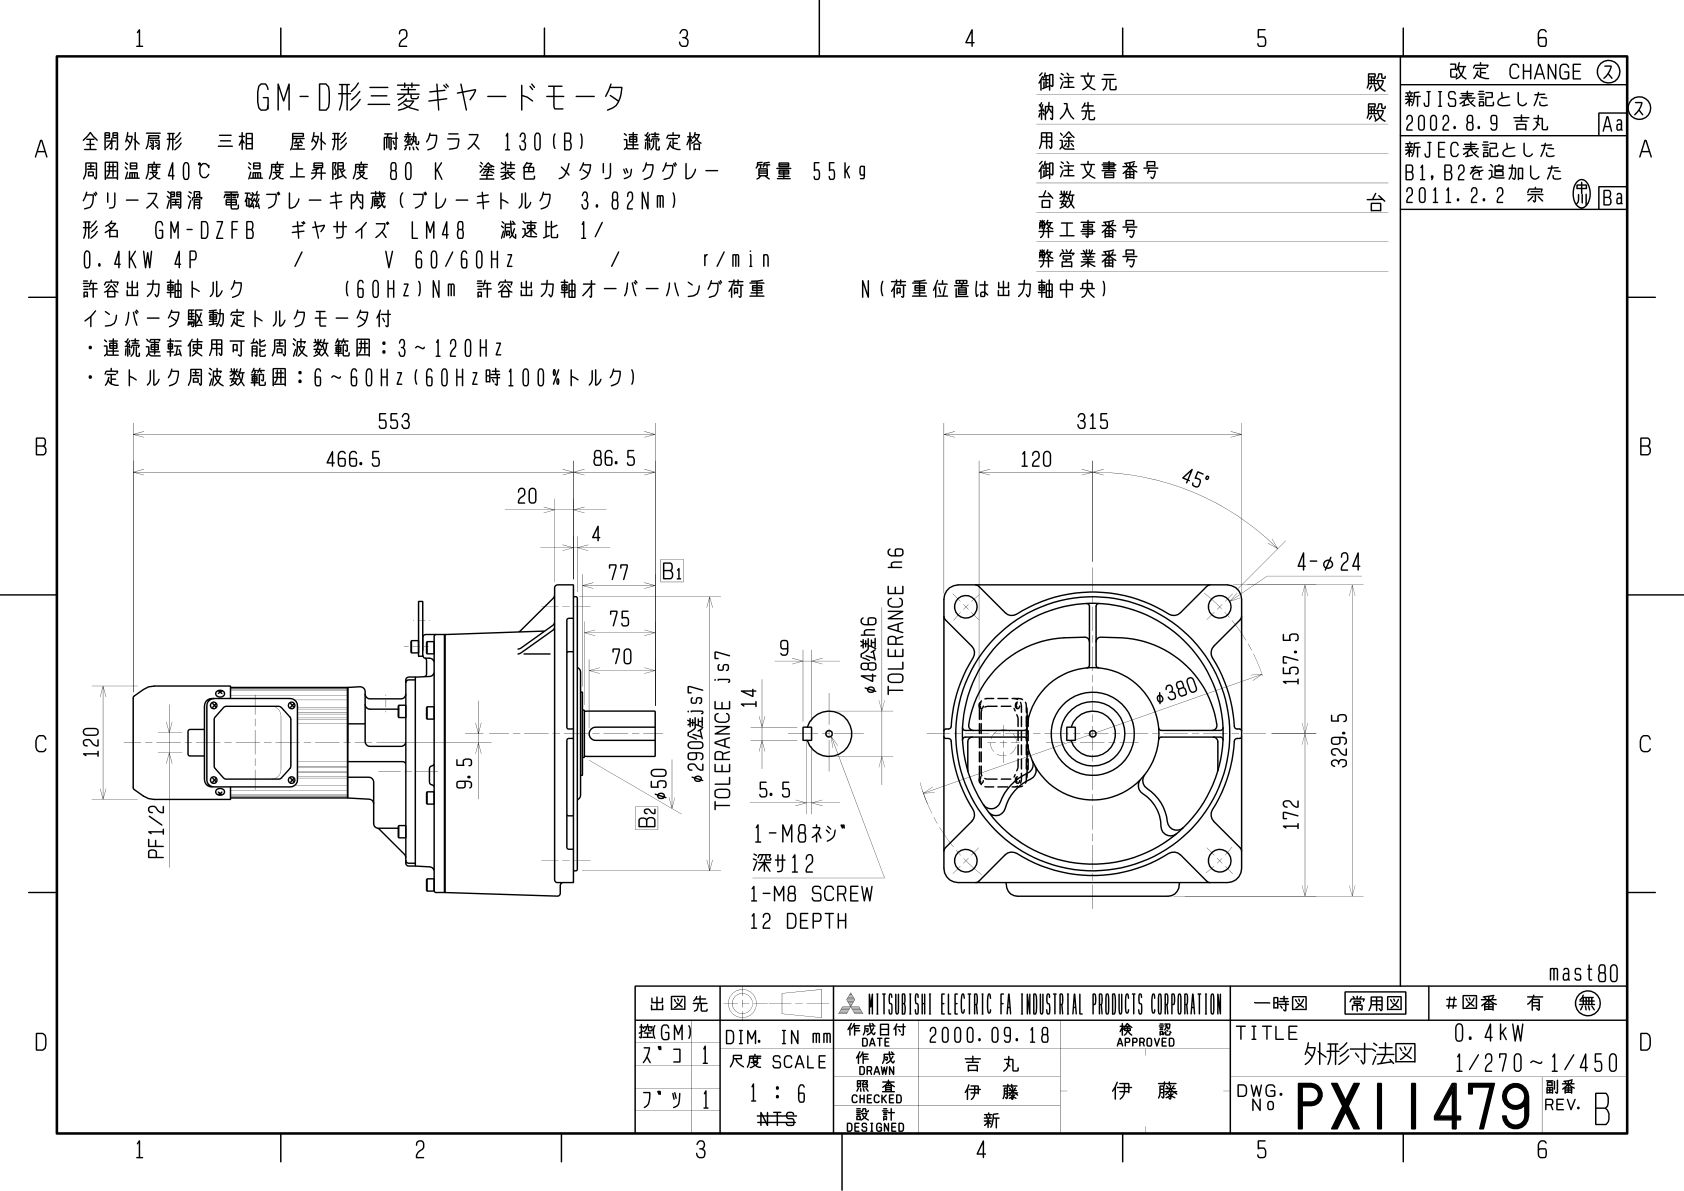GM_D_インバータ屋外_三相_フランジ: (64, 394, 1389, 965)
